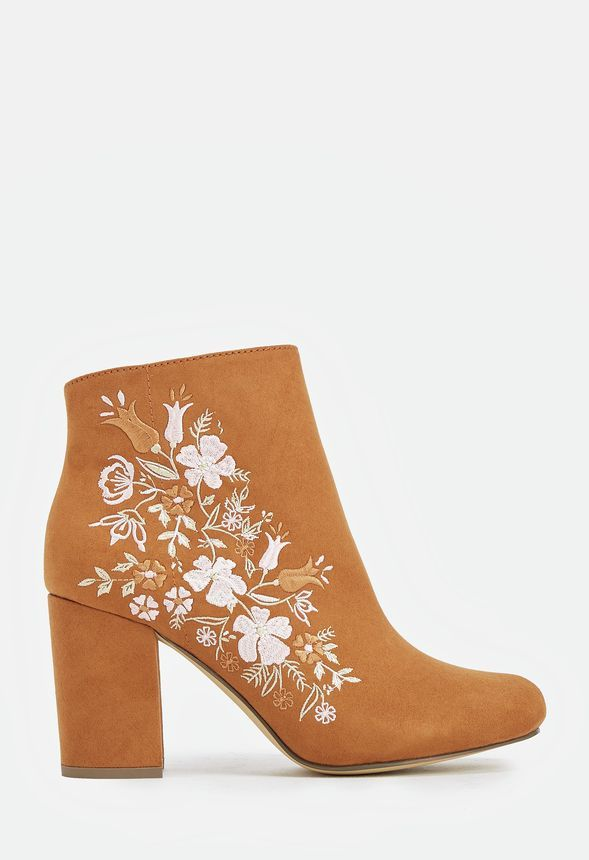gamuza: (42, 342, 546, 770)
